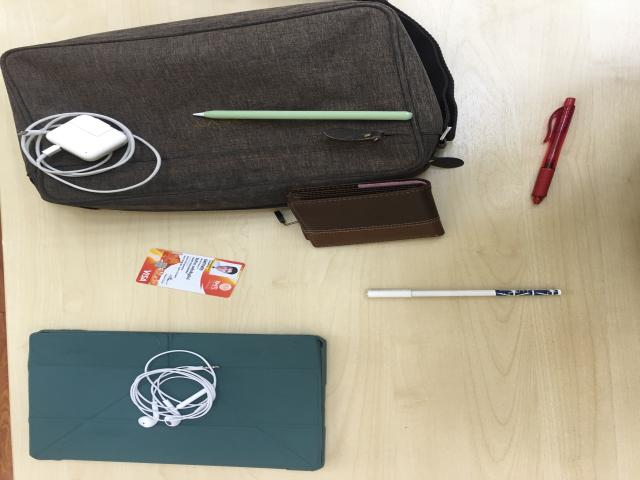Pen: (531, 98, 578, 207)
Wallet: (286, 180, 445, 248)
wire: (21, 112, 144, 190)
